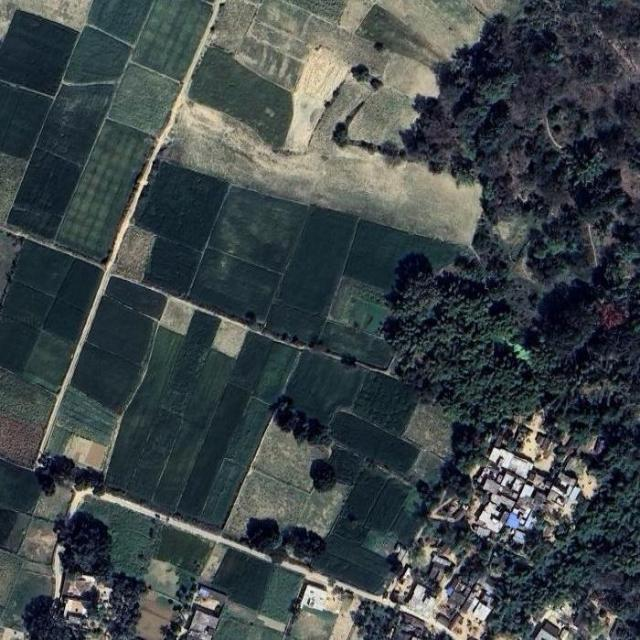land-Sx1C: (160, 101, 480, 244), (58, 120, 153, 259), (109, 330, 181, 491), (190, 47, 293, 147), (178, 384, 250, 517), (210, 186, 307, 271), (344, 220, 461, 290), (281, 209, 356, 314), (136, 162, 227, 248), (378, 1, 506, 59), (0, 11, 78, 94), (190, 250, 280, 319), (133, 0, 211, 79), (161, 311, 220, 414), (80, 498, 156, 577), (39, 85, 114, 164), (286, 351, 365, 424), (224, 471, 309, 538), (253, 421, 330, 492), (331, 413, 418, 473), (309, 73, 373, 152), (109, 64, 179, 134), (130, 409, 181, 502), (356, 5, 439, 61), (14, 149, 80, 218), (154, 421, 205, 509), (309, 20, 390, 74), (73, 344, 140, 409), (353, 371, 419, 436), (87, 298, 154, 362), (349, 87, 418, 145), (184, 351, 234, 426), (235, 36, 301, 91), (0, 0, 93, 39), (213, 549, 273, 609), (65, 27, 130, 82), (56, 387, 116, 444), (294, 47, 350, 106), (0, 91, 50, 157), (321, 323, 394, 368), (14, 241, 73, 296), (329, 279, 389, 333), (0, 569, 53, 629), (144, 238, 200, 294), (201, 459, 246, 527), (226, 398, 270, 466), (296, 482, 350, 537), (0, 369, 54, 423), (402, 402, 451, 458), (154, 526, 211, 574), (24, 333, 71, 391), (326, 535, 391, 576), (255, 342, 298, 403), (89, 0, 151, 42), (313, 554, 382, 591), (210, 0, 259, 52), (382, 54, 439, 97), (106, 278, 166, 318), (284, 94, 325, 152), (231, 333, 273, 389), (366, 479, 410, 532), (113, 226, 155, 281), (260, 567, 302, 622), (2, 282, 53, 327), (144, 559, 196, 601), (248, 22, 307, 59), (345, 471, 386, 524), (58, 260, 100, 311), (0, 415, 41, 467), (0, 460, 41, 512), (266, 305, 324, 341), (0, 318, 38, 372), (390, 489, 426, 546), (256, 0, 309, 37), (0, 153, 26, 223), (138, 590, 174, 640), (213, 614, 282, 639), (19, 519, 56, 564), (44, 300, 84, 341), (9, 207, 61, 238), (0, 231, 21, 304), (287, 609, 336, 640), (64, 434, 107, 469), (329, 591, 360, 639), (407, 450, 445, 487), (35, 485, 73, 521), (159, 296, 194, 334), (213, 319, 247, 358), (329, 446, 362, 484), (289, 0, 346, 21), (199, 542, 227, 584), (1, 513, 31, 552), (339, 0, 374, 33), (0, 550, 20, 607), (1, 84, 19, 141), (362, 530, 398, 557), (334, 518, 369, 543), (222, 601, 258, 622), (300, 584, 327, 611), (46, 426, 71, 454), (0, 509, 18, 546), (258, 615, 286, 632), (22, 560, 51, 576), (0, 627, 25, 640)
